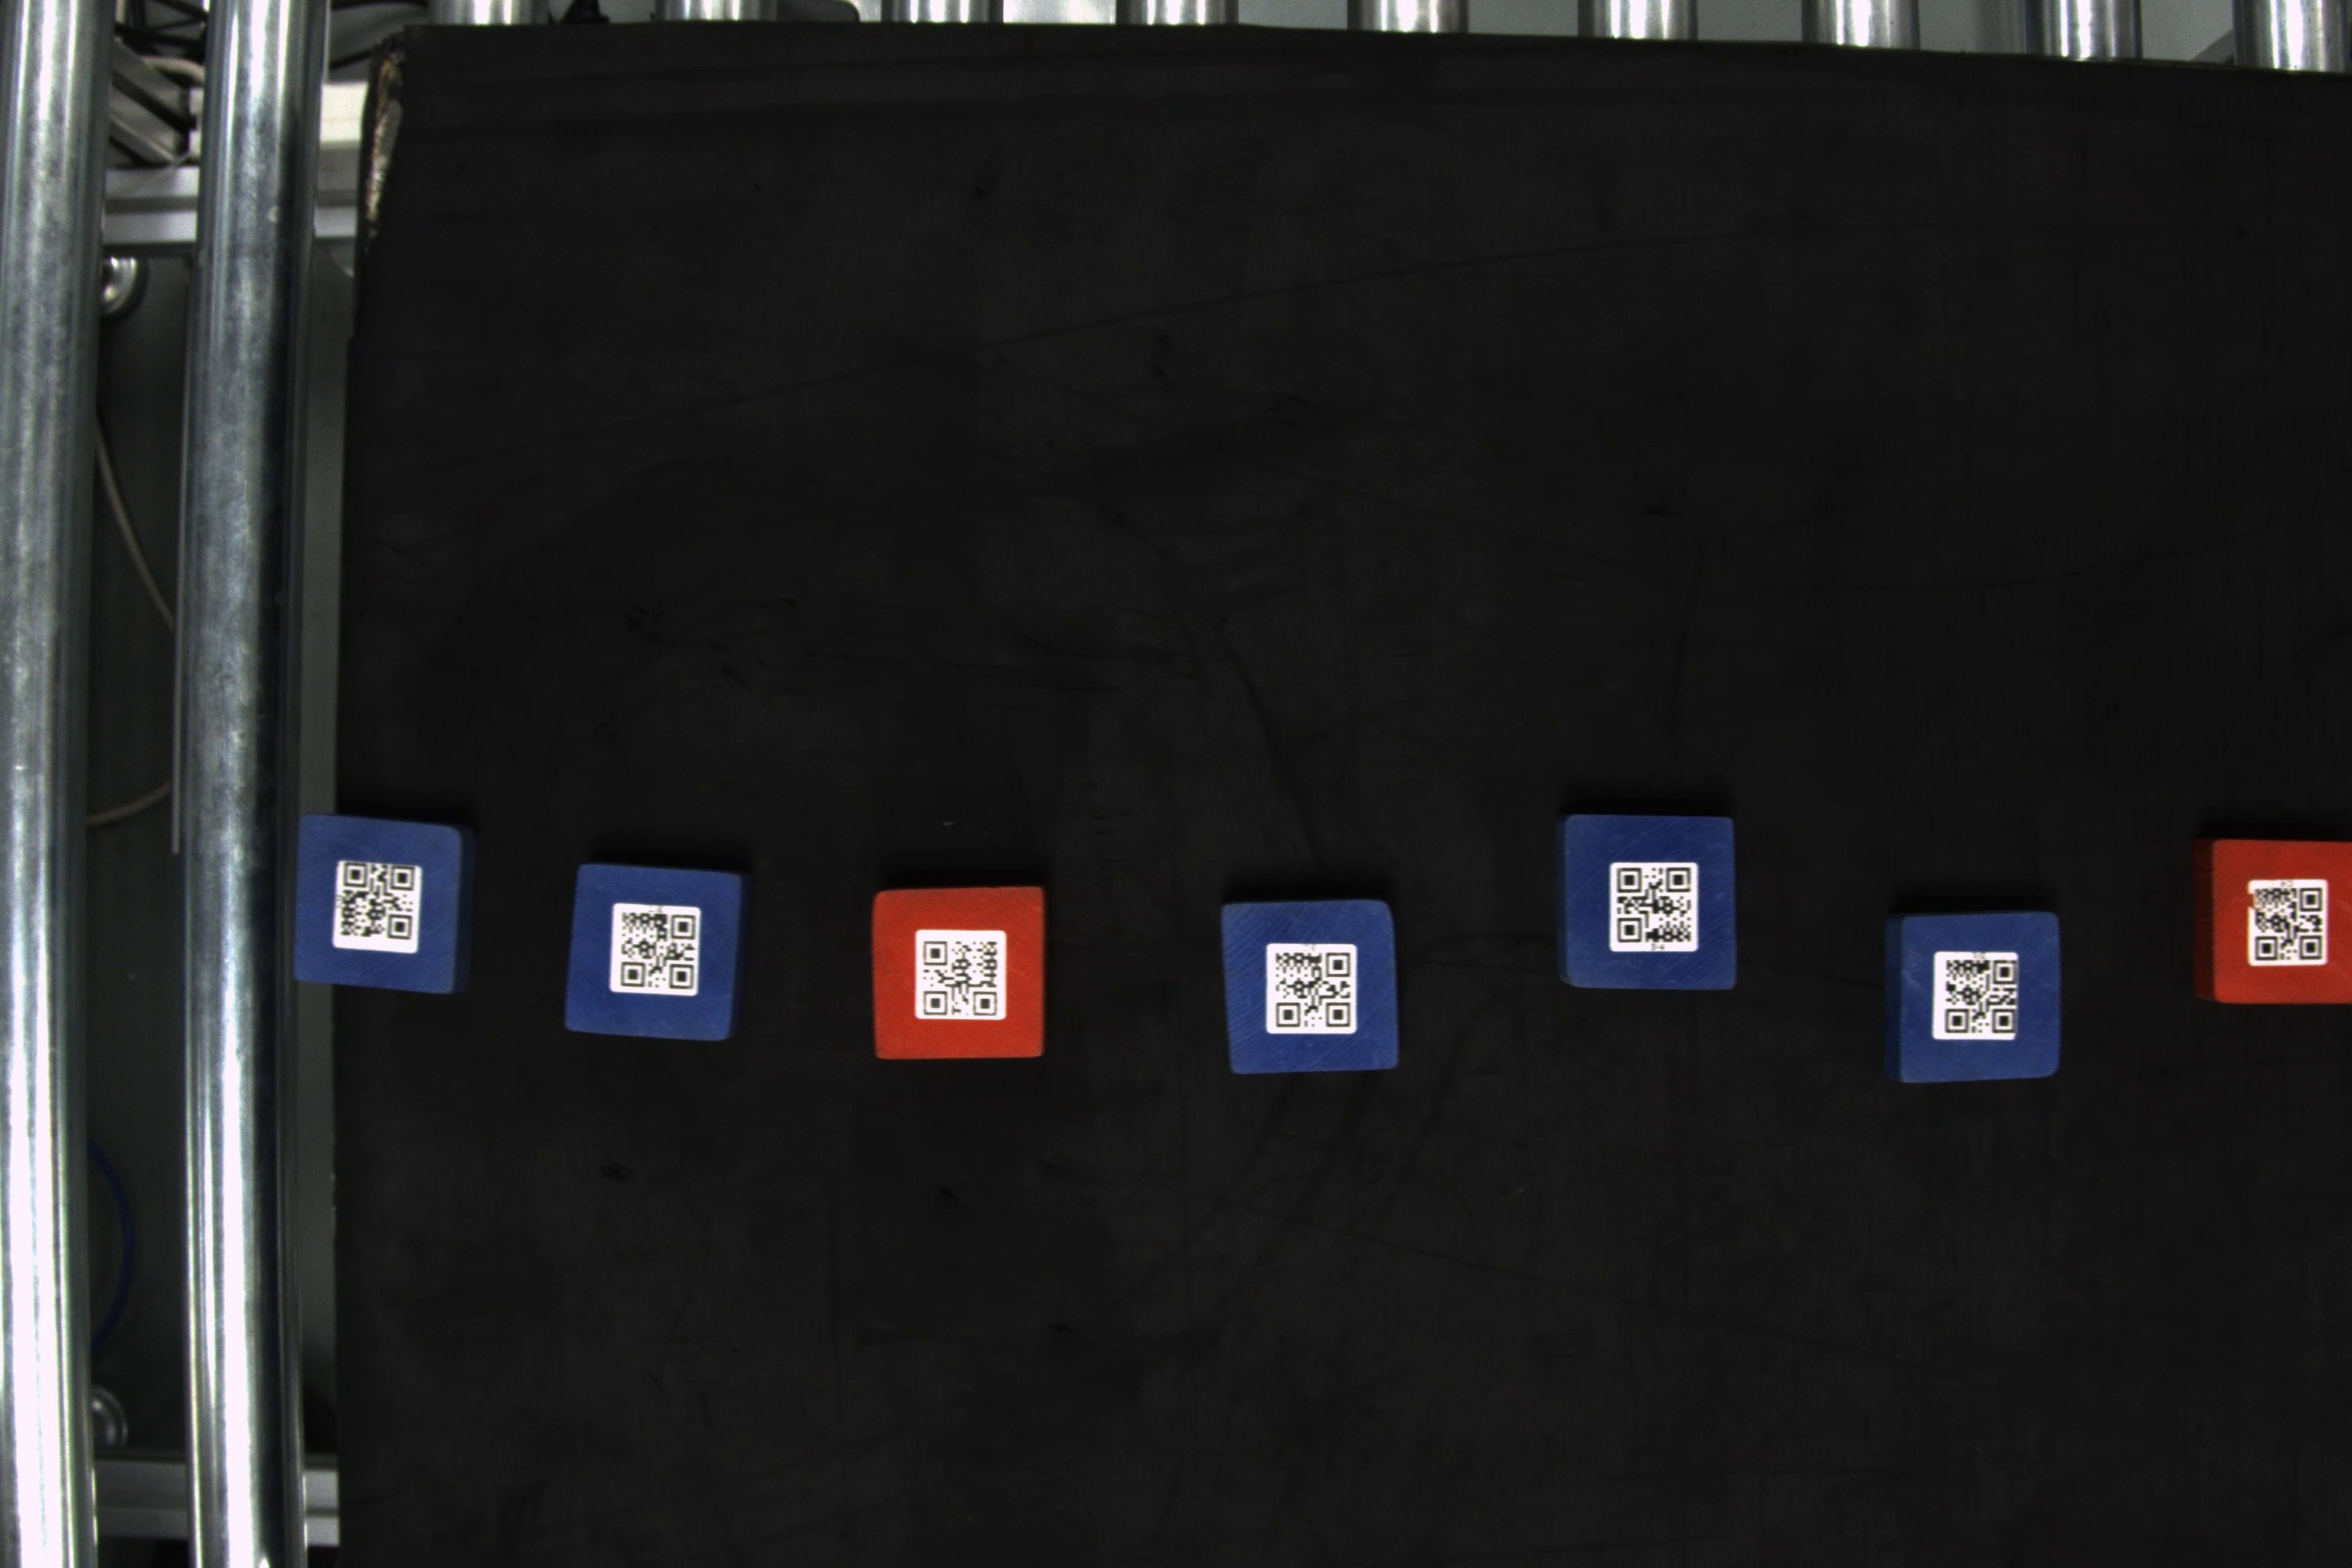wood: (1218, 899, 1405, 1087), (289, 810, 469, 1001), (1559, 810, 1743, 992), (1879, 915, 2068, 1090), (866, 887, 1052, 1062), (569, 864, 751, 1041), (2193, 833, 2352, 1004)
